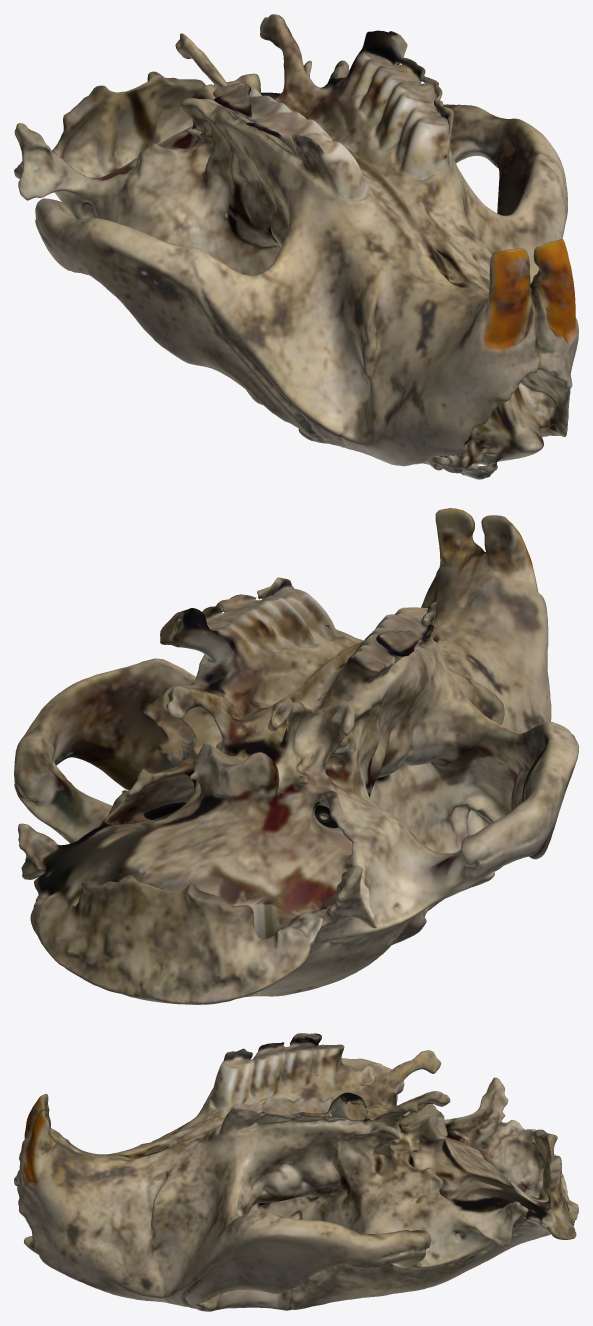
The model's file is FINALSCANCraniumBeaver53-150k-4096-high.glb.
3 renders of one model, top to bottom at view 1: azimuth 30°, elevation 25°; view 2: azimuth 150°, elevation 25°; view 3: azimuth 270°, elevation 25°, orthographic. The views are drawn at different scales.
Size of the model in its own units: 77.29 by 49.87 by 109.
Materials: 1 (1 with a texture image).
